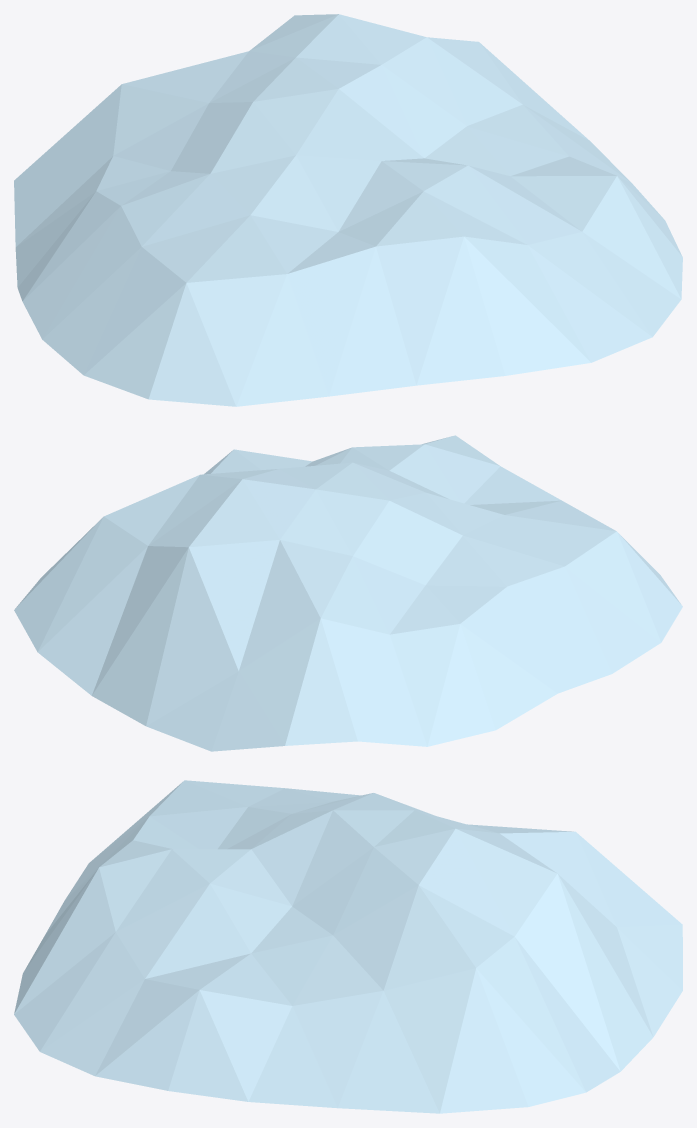
The model's file is model_polytope_ground_snow_large.fbx.
3 views of the same model, one above another, from view 1: azimuth 30°, elevation 25°; view 2: azimuth 150°, elevation 25°; view 3: azimuth 270°, elevation 25° (orthographic). The views are drawn at different scales.
Visible parts, largest first — view 1: model_polytope_ground_snow_large; view 2: model_polytope_ground_snow_large; view 3: model_polytope_ground_snow_large.
Part boxes in pixels (x1,y1,x2,y2): model_polytope_ground_snow_large: [14, 14, 682, 406]; model_polytope_ground_snow_large: [14, 435, 682, 751]; model_polytope_ground_snow_large: [14, 780, 682, 1113].
Bounding box in the file's own units: 1849 × 616 × 1826.
1 material, 1 textured.
